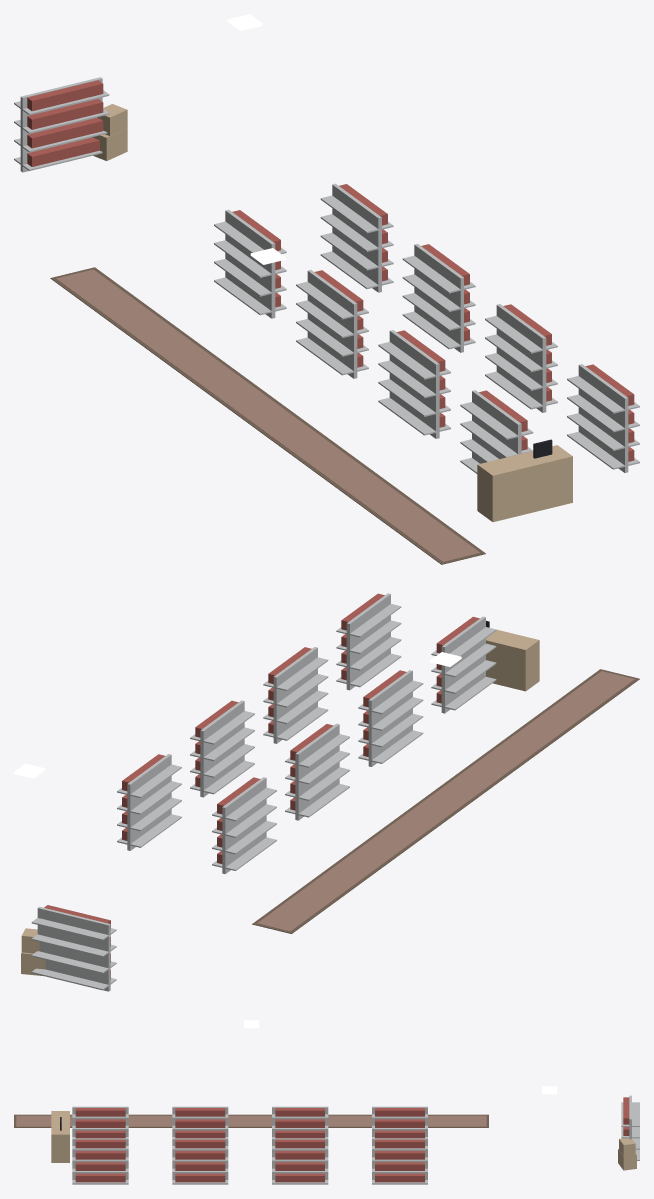
Rendered from fine-s0.glb.
The picture shows the model from 3 angles, top to bottom: view 1: azimuth 30°, elevation 25°; view 2: azimuth 150°, elevation 25°; view 3: azimuth 270°, elevation 25°; orthographic projection. The views are drawn at different scales.
Visible parts, largest first — view 1: soft-s0, shelving.000, shop-counter.000, shelf.007, shelf.001, shelf.002, shelf.004, shelf.006, shelf.005, shelf.000, shelf.003, cardboard-box.000; view 2: soft-s0, shelving.000, shelf.006, shelf.007, shelf.002, shelf.000, shelf.004, shelf.005, shelf.001, shelf.003, shop-counter.000, cardboard-box.000; view 3: soft-s0, shelf.005, shelf.006, shelf.007, shelf.004, shelf.003, shelf.001, shelf.002, shelf.000, shop-counter.000, shelving.000, cardboard-box.000.
Part boxes in pixels (x1,y1,x2,y2): soft-s0: [50, 267, 485, 564]; shelving.000: [14, 77, 109, 172]; shop-counter.000: [477, 439, 572, 522]; shelf.007: [567, 364, 639, 472]; shelf.001: [296, 270, 368, 378]; shelf.002: [378, 330, 450, 438]; shelf.004: [320, 183, 393, 292]; shelf.006: [485, 304, 557, 412]; shelf.005: [402, 244, 475, 352]; shelf.000: [214, 209, 286, 318]; shelf.003: [460, 390, 533, 473]; cardboard-box.000: [92, 104, 127, 160]; soft-s0: [252, 669, 639, 933]; shelving.000: [31, 905, 116, 991]; shelf.006: [263, 647, 328, 743]; shelf.007: [336, 593, 401, 690]; shelf.002: [358, 670, 423, 766]; shelf.000: [212, 777, 276, 874]; shelf.004: [117, 754, 181, 850]; shelf.005: [190, 700, 254, 797]; shelf.001: [285, 723, 349, 820]; shelf.003: [431, 616, 496, 713]; shop-counter.000: [486, 620, 539, 691]; cardboard-box.000: [21, 928, 45, 975]; soft-s0: [14, 1114, 488, 1127]; shelf.005: [272, 1138, 328, 1184]; shelf.006: [172, 1138, 228, 1184]; shelf.007: [72, 1138, 128, 1184]; shelf.004: [372, 1138, 427, 1184]; shelf.003: [72, 1106, 128, 1138]; shelf.001: [272, 1106, 328, 1138]; shelf.002: [172, 1106, 228, 1138]; shelf.000: [372, 1106, 427, 1138]; shop-counter.000: [51, 1111, 69, 1162]; shelving.000: [621, 1095, 639, 1160]; cardboard-box.000: [618, 1138, 636, 1170].
Bounding box in the file's own units: 5.75 × 3.46 × 20.08.
